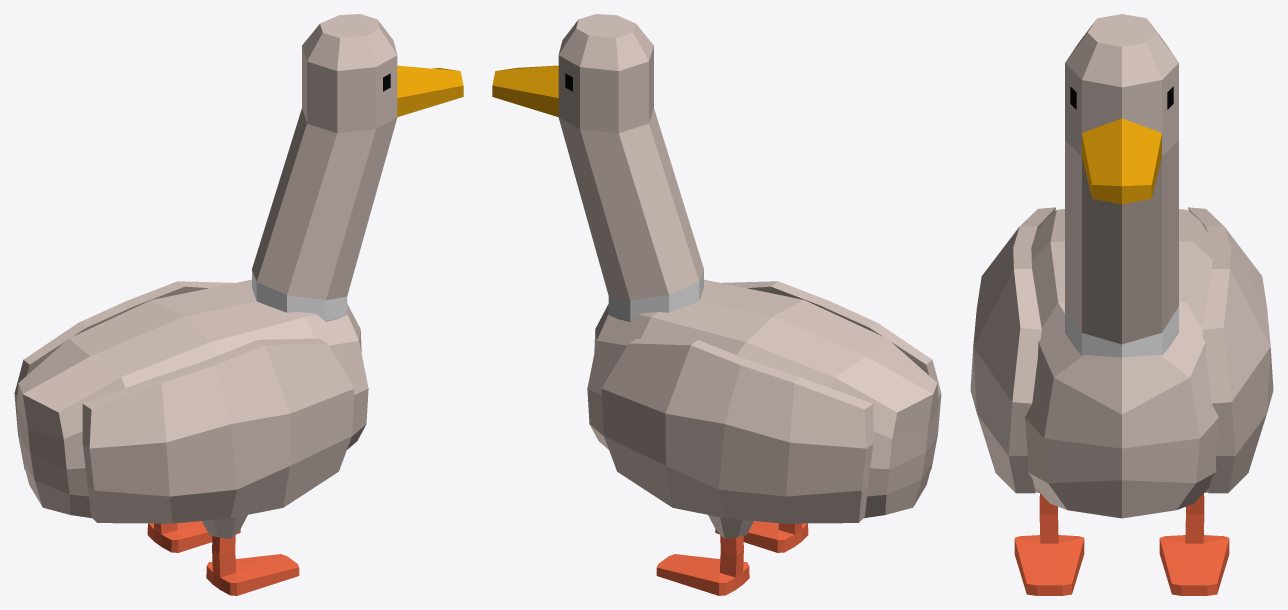
Rendered from Goose.fbx.
The picture shows the model from 3 angles, left to right: view 1: azimuth 30°, elevation 25°; view 2: azimuth 150°, elevation 25°; view 3: azimuth 270°, elevation 25°; orthographic projection. The views are drawn at different scales.
Visible parts, largest first — view 1: Entities_duck_body; view 2: Entities_duck_body; view 3: Entities_duck_body.
Boxes of the visible parts, box(x1,y1,x2,y2) form: Entities_duck_body: box(14, 14, 463, 595); Entities_duck_body: box(492, 14, 941, 595); Entities_duck_body: box(970, 14, 1273, 595).
Bounding box in the file's own units: 0.7001 × 0.3393 × 0.7635.
